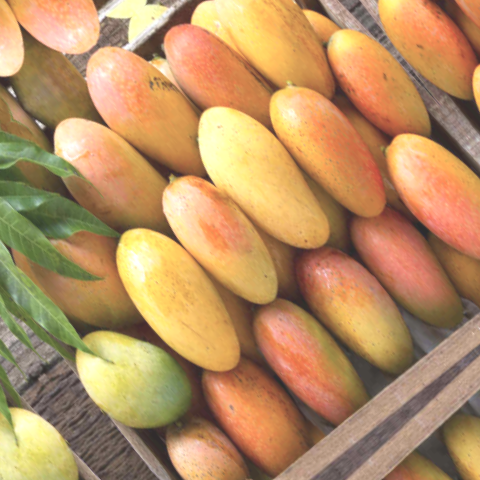mango: (163, 74, 366, 289), (81, 198, 272, 399), (222, 263, 404, 458), (246, 54, 421, 237), (61, 27, 235, 209), (187, 0, 384, 146), (131, 148, 296, 321), (50, 304, 211, 470), (319, 178, 476, 344), (305, 10, 460, 174), (352, 97, 480, 293)
